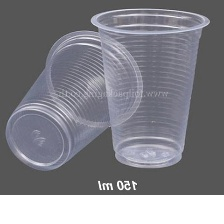glass: (0, 19, 146, 179), (90, 6, 213, 172)
